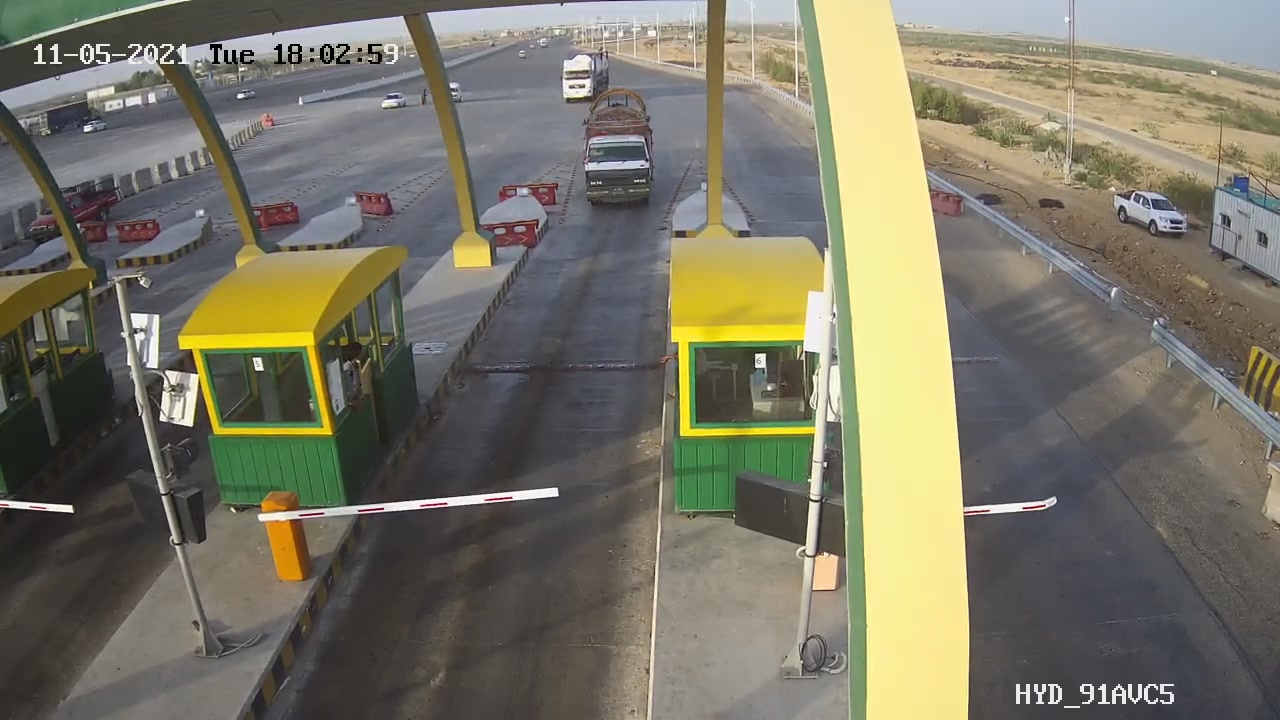F5: (563, 79, 676, 222)
